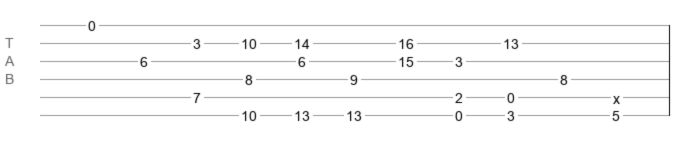0: (88, 18, 96, 28), (455, 108, 463, 118), (507, 90, 515, 100)
10: (241, 36, 257, 46), (241, 108, 257, 118)
13: (294, 108, 310, 118), (346, 108, 362, 118), (503, 36, 519, 46)
14: (294, 36, 310, 46)
15: (398, 54, 414, 64)
16: (398, 36, 414, 46)
2: (455, 90, 463, 100)
3: (193, 36, 201, 46), (455, 54, 463, 64), (507, 108, 515, 118)
5: (612, 108, 620, 118)
6: (140, 54, 148, 64), (298, 54, 306, 64)
7: (193, 90, 201, 100)
8: (245, 72, 253, 82), (560, 72, 568, 82)
9: (350, 72, 358, 82)
x: (613, 91, 620, 99)
